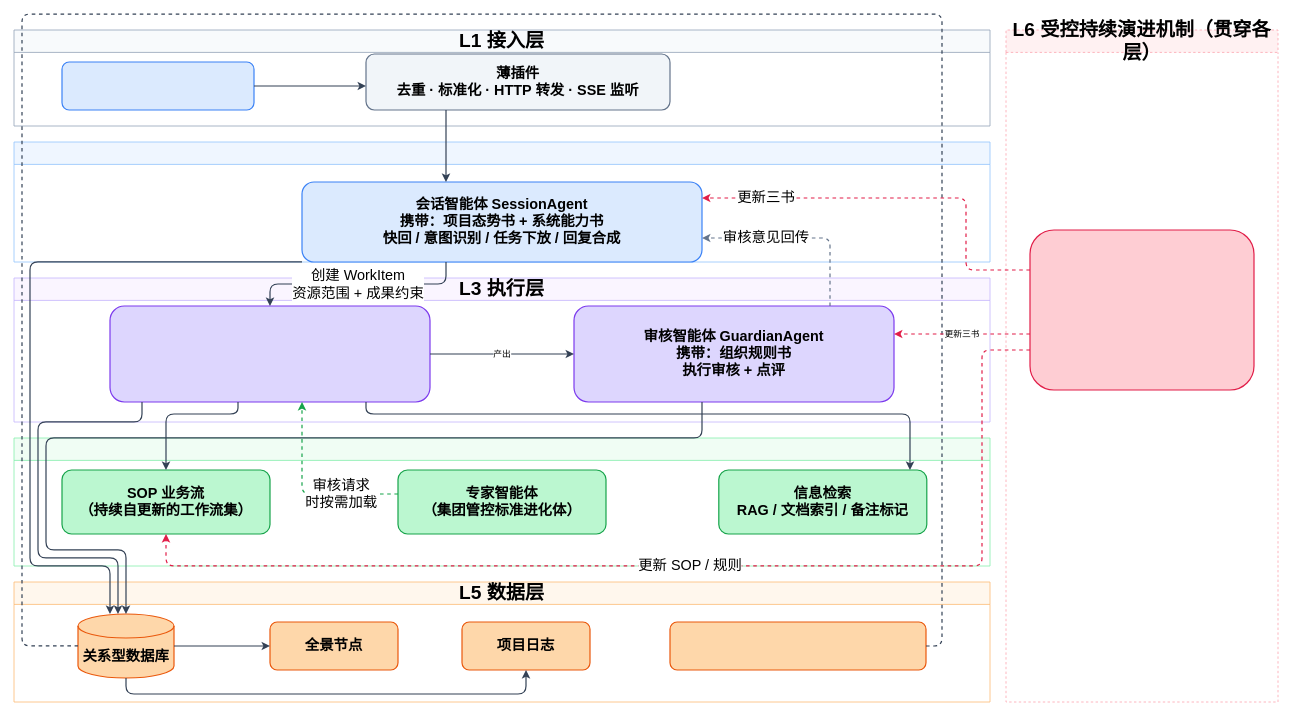
This 1292x717 diagram has some shape labels left out. Here are the shapes that lost their labels. From the top down, the box of each, then its label:
(61, 61, 254, 110): IM 渠道（即时通信软件）
(13, 141, 990, 262): L2 会话层
(1029, 229, 1254, 390): 受控持续演进机制 用户反馈信号 → 日洞察 → 规则 → 配置补丁 三书周期性自更新
(109, 305, 430, 402): 任务智能体 WorkItemAgent 状态图编排的五节点引擎 单任务聚焦小型驾驭层
(13, 437, 990, 566): L4 知识层
(669, 621, 926, 670): 权限体系 + 声明式拦截器
